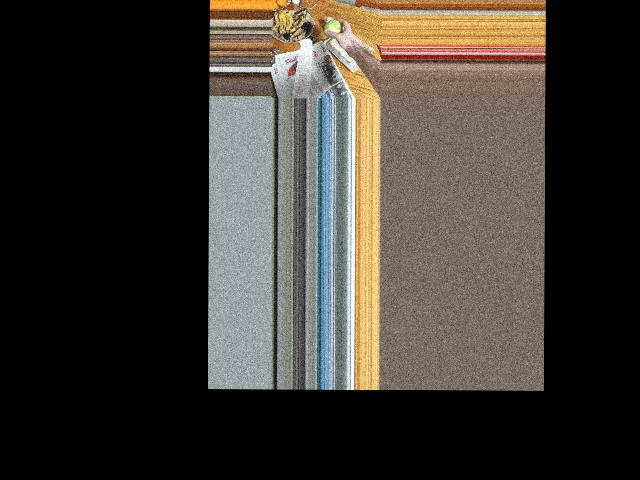apple: (323, 19, 346, 45)
